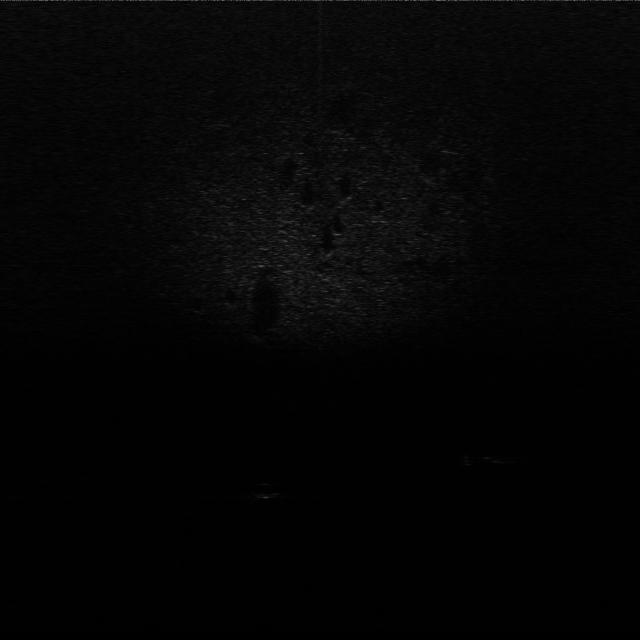ball: (250, 481, 280, 502)
human body: (460, 449, 540, 471)
